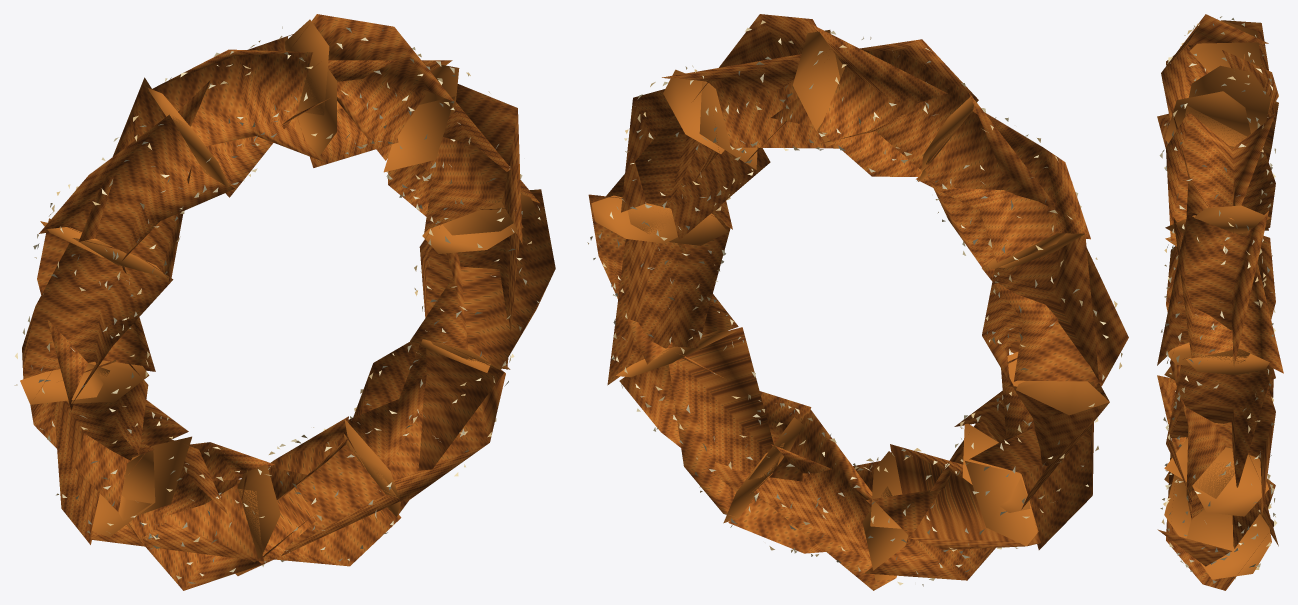
The model's file is simit.glb.
3 views of the same model, side by side, from view 1: azimuth 30°, elevation 25°; view 2: azimuth 150°, elevation 25°; view 3: azimuth 270°, elevation 25° (orthographic). The views are drawn at different scales.
Visible parts, largest first — view 1: SimitSeg_0, SimitSeg_8, SimitSeg_1, SimitSeg_6, SimitSeg_3, SimitSeg_9, SimitSeg_2, SimitSeg_5, SimitSeg_4, SimitSeg_7; view 2: SimitSeg_0, SimitSeg_1, SimitSeg_6, SimitSeg_8, SimitSeg_9, SimitSeg_5, SimitSeg_4, SimitSeg_2, SimitSeg_3, SimitSeg_7; view 3: SimitSeg_2, SimitSeg_1, SimitSeg_3, SimitSeg_4, SimitSeg_0, SimitSeg_9, SimitSeg_5, SimitSeg_7, SimitSeg_8, SimitSeg_6.
Part boxes in pixels (left/top/right/bottom): SimitSeg_0: left=342, top=339, right=510, bottom=516; SimitSeg_8: left=90, top=436, right=274, bottom=590; SimitSeg_1: left=410, top=189, right=555, bottom=373; SimitSeg_6: left=14, top=218, right=173, bottom=410; SimitSeg_3: left=285, top=14, right=456, bottom=167; SimitSeg_9: left=235, top=416, right=402, bottom=575; SimitSeg_2: left=383, top=65, right=539, bottom=247; SimitSeg_5: left=39, top=77, right=234, bottom=281; SimitSeg_4: left=148, top=26, right=332, bottom=197; SimitSeg_7: left=20, top=359, right=188, bottom=544; SimitSeg_0: left=616, top=327, right=811, bottom=523; SimitSeg_1: left=587, top=194, right=738, bottom=385; SimitSeg_6: left=982, top=233, right=1128, bottom=406; SimitSeg_8: left=865, top=421, right=1040, bottom=586; SimitSeg_9: left=728, top=409, right=908, bottom=590; SimitSeg_5: left=916, top=93, right=1090, bottom=267; SimitSeg_4: left=809, top=25, right=978, bottom=181; SimitSeg_2: left=606, top=69, right=770, bottom=240; SimitSeg_3: left=662, top=14, right=844, bottom=167; SimitSeg_7: left=954, top=352, right=1109, bottom=549; SimitSeg_2: left=1157, top=210, right=1283, bottom=373; SimitSeg_1: left=1164, top=342, right=1275, bottom=517; SimitSeg_3: left=1165, top=75, right=1275, bottom=241; SimitSeg_4: left=1161, top=14, right=1278, bottom=148; SimitSeg_0: left=1157, top=437, right=1278, bottom=577; SimitSeg_9: left=1162, top=453, right=1275, bottom=590; SimitSeg_5: left=1166, top=20, right=1275, bottom=143; SimitSeg_7: left=1164, top=235, right=1275, bottom=382; SimitSeg_8: left=1157, top=373, right=1273, bottom=511; SimitSeg_6: left=1157, top=101, right=1278, bottom=241.
Size of the model in its own units: 0.1802 by 0.1775 by 0.0394.
3 materials, 1 textured.
